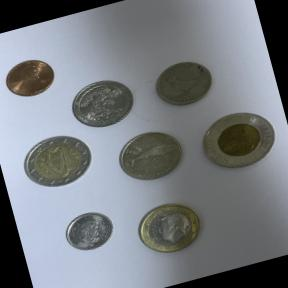1 Euro-B: (124, 189, 216, 267)
2 Euro-B: (14, 126, 102, 200)
Canada-10cent-B: (55, 202, 124, 262)
Canada-2Dollar-B: (187, 94, 288, 183)
Croatia-2Kune-B: (106, 117, 197, 194)
US-1cent-B: (0, 44, 70, 109)
US-25cent-B: (64, 68, 145, 136)
